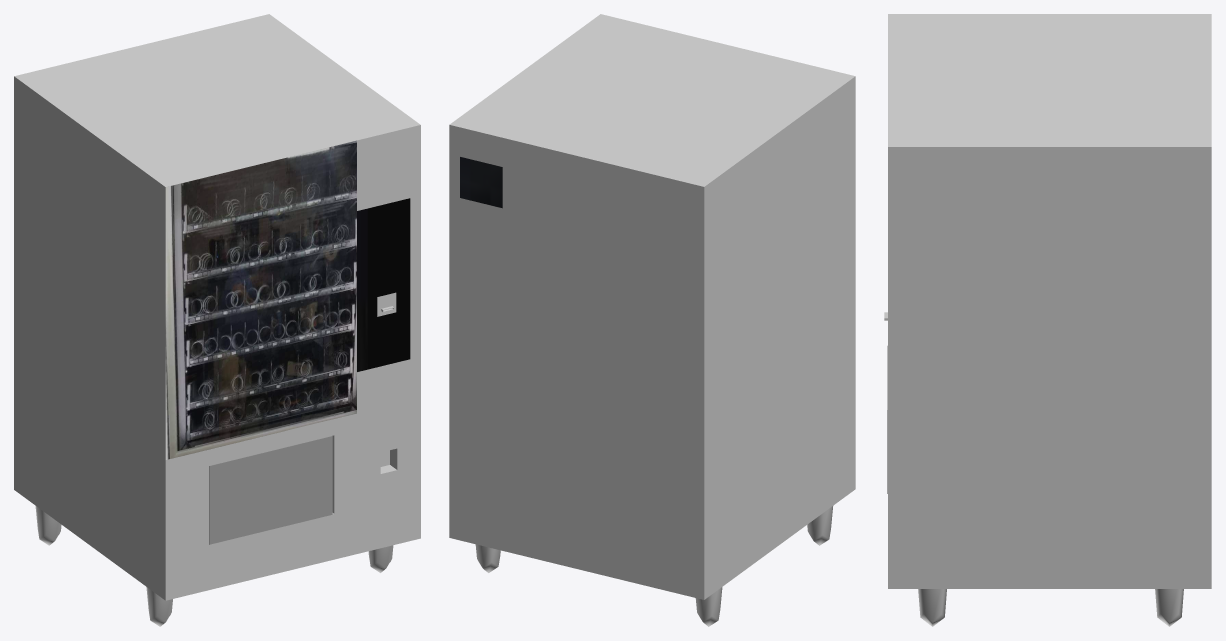
The model's file is VendingMachine.fbx.
3 views of the same model, side by side, from view 1: azimuth 30°, elevation 25°; view 2: azimuth 150°, elevation 25°; view 3: azimuth 270°, elevation 25° (orthographic). The views are drawn at different scales.
Parts seen in each view (by area): view 1: vendingframe, door, leg5, leg6; view 2: vendingframe, leg6, leg5; view 3: vendingframe, leg4, leg3.
Boxes of the visible parts, x1,y1,x2,y2 form: vendingframe: (14, 14, 420, 600); door: (209, 436, 332, 544); leg5: (146, 587, 172, 626); leg6: (35, 506, 61, 545); vendingframe: (449, 14, 855, 599); leg6: (695, 587, 722, 626); leg5: (807, 506, 832, 545); vendingframe: (888, 14, 1211, 588); leg4: (1155, 589, 1183, 626); leg3: (918, 589, 946, 626).
Bounding box in the file's own units: 5.29 × 9.09 × 5.51.
